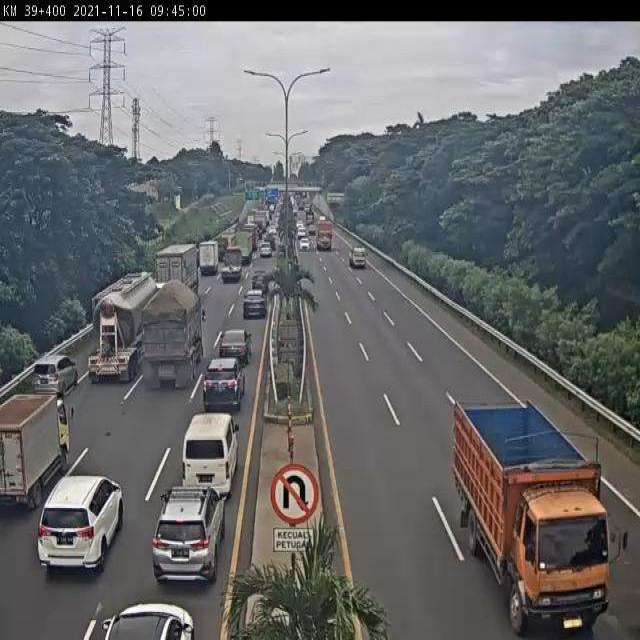car: (35, 477, 125, 571), (152, 488, 225, 581), (200, 361, 244, 415), (30, 354, 78, 394), (215, 333, 248, 368), (241, 292, 268, 325), (251, 268, 269, 293)
small bus: (183, 412, 241, 489)
small truck: (2, 390, 71, 510)
truck-l-: (144, 283, 203, 388), (151, 246, 200, 310)
truck-m-: (454, 400, 608, 631), (218, 248, 246, 287), (196, 243, 218, 280)
truck-xl-: (88, 270, 162, 382)
